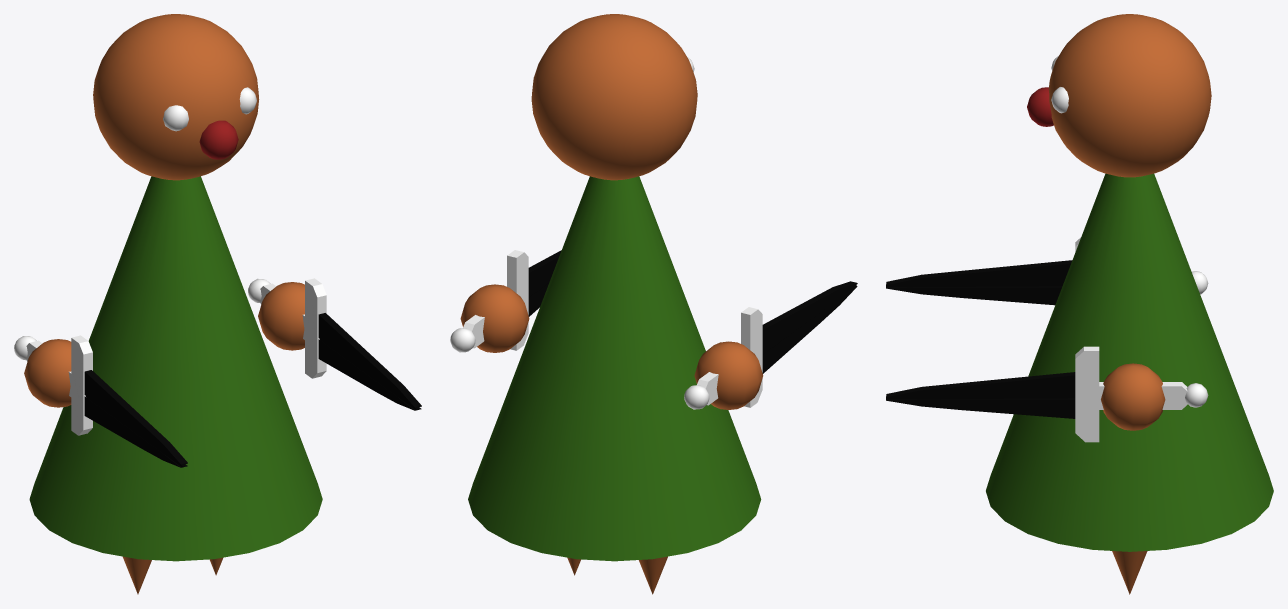
Rendered from MeleeModel.FBX.
3 views of the same model, side by side, from view 1: azimuth 30°, elevation 25°; view 2: azimuth 150°, elevation 25°; view 3: azimuth 270°, elevation 25° (orthographic).
Visible parts, largest first — view 1: Human_Team1; view 2: Human_Team1; view 3: Human_Team1.
Boxes of the visible parts, left/top/right/bottom form: Human_Team1: left=14, top=14, right=421, bottom=594; Human_Team1: left=450, top=14, right=857, bottom=594; Human_Team1: left=886, top=14, right=1273, bottom=594.
Bounding box in the file's own units: 51.45 × 59.93 × 94.47.
